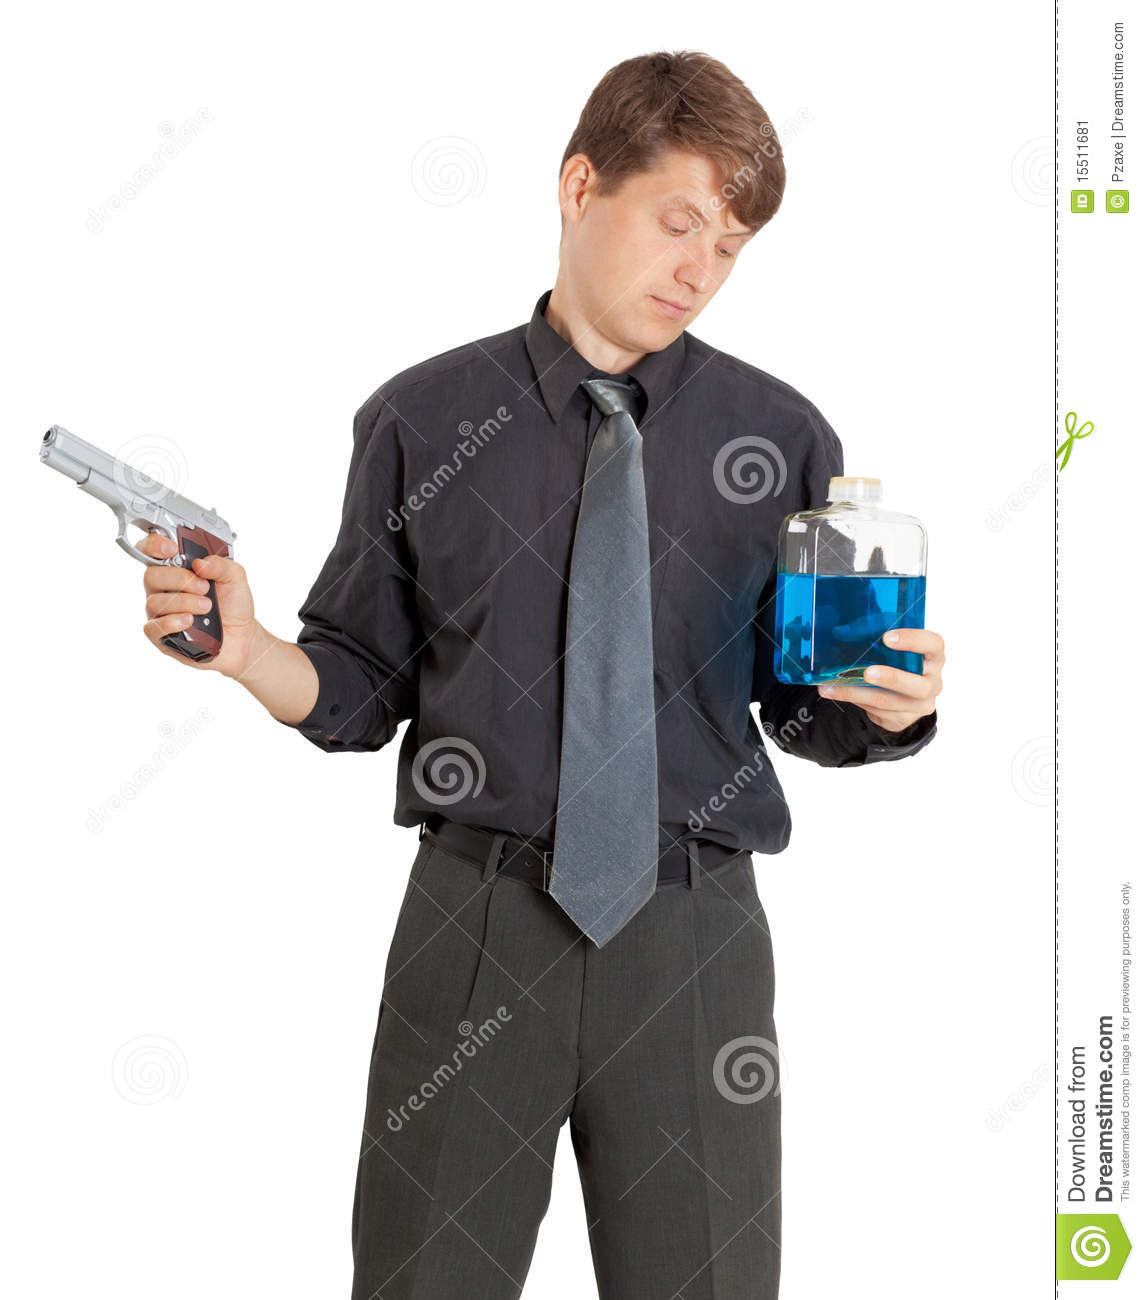pistol: (39, 424, 235, 661)
